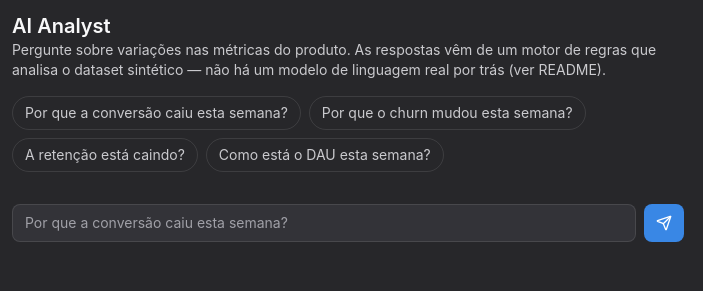
AiAnalystChat › digitar e enviar uma pergunta não reconhecida mostra a mensagem de fallback
Type "qual é a cor do céu?" into the field named "pergunta para o ai analyst" at (324, 223), box [12, 204, 636, 242]
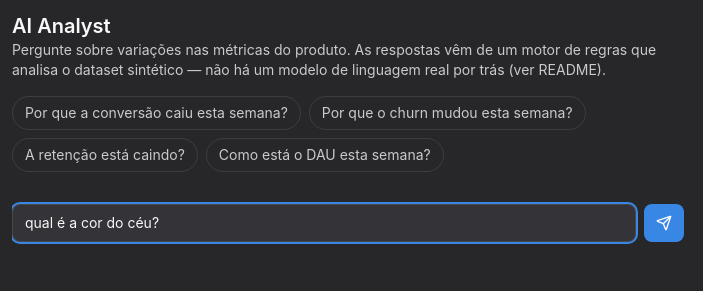
Click the button named "enviar pergunta" at (664, 223), box [644, 204, 684, 242]
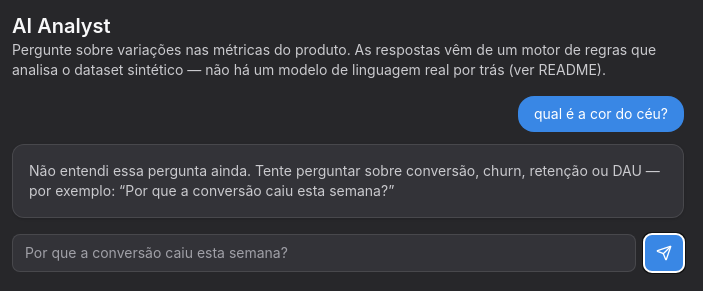
Expected: the text "Não entendi essa pergunta ainda" is shown, [29, 162, 660, 199]
